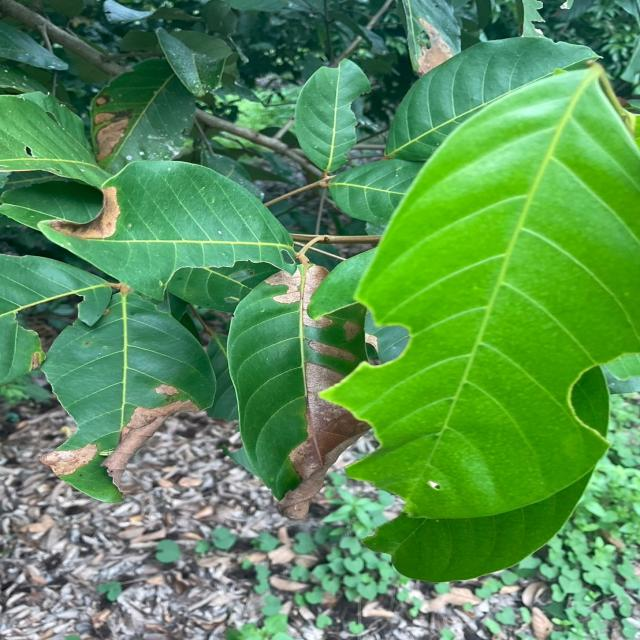Leaf Blight: (38, 283, 212, 508), (224, 269, 373, 505), (52, 159, 298, 297), (408, 7, 455, 77), (87, 93, 132, 156)
